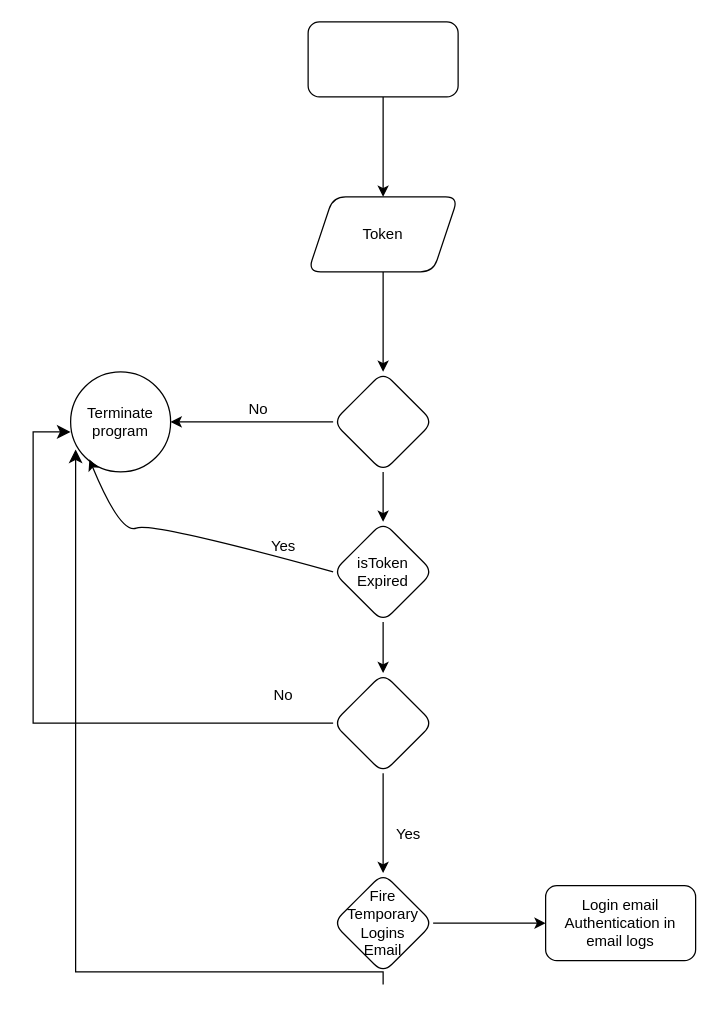
The diagram is 718 pixels wide and 1019 high, and some of its shapes have lost their labels. The shapes that lost their labels are listed below. From the top down, each one's centre as x and y in pixels, then its label:
At [382,59]: "Email Verification".
At [382,421]: "isToken Available".
At [382,722]: "isToken Authentic".
